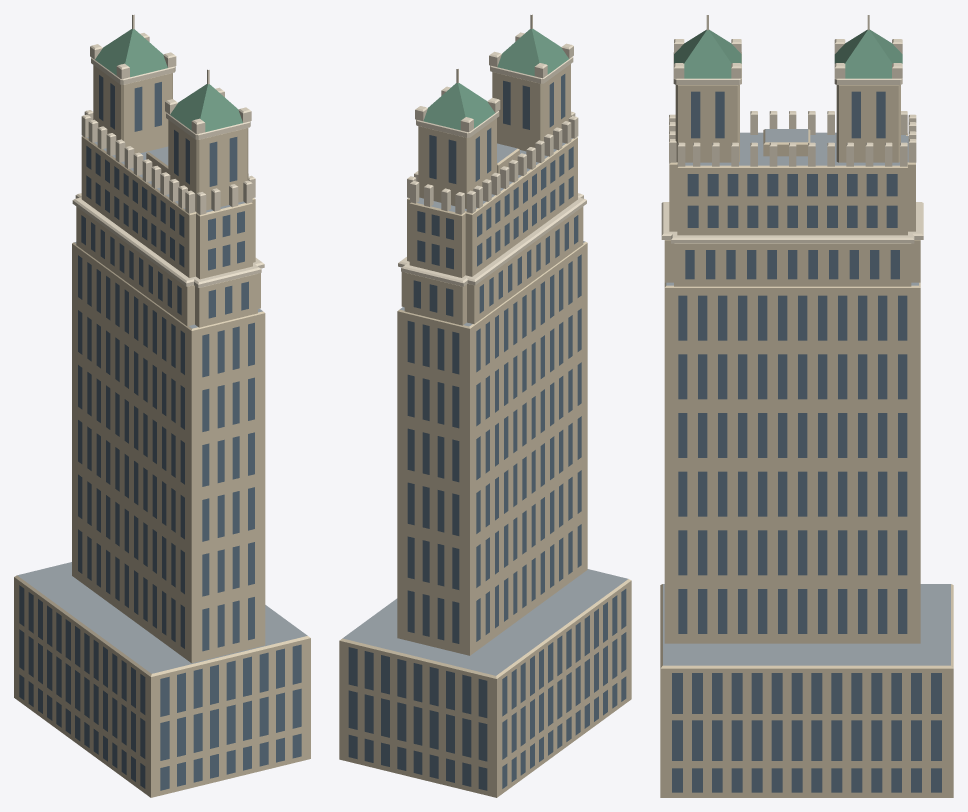
File: kc-909-walnut.glb
3 renders of one model, left to right at view 1: azimuth 30°, elevation 25°; view 2: azimuth 150°, elevation 25°; view 3: azimuth 270°, elevation 25°, orthographic. The views are drawn at different scales.
Parts seen in each view (by area): view 1: 909 Walnut; view 2: 909 Walnut; view 3: 909 Walnut.
Part boxes in pixels (<box>): 909 Walnut: <box>14,14,310,797</box>; 909 Walnut: <box>339,14,631,797</box>; 909 Walnut: <box>660,15,953,797</box>.
Size of the model in its own units: 33.9 by 140 by 50.2.
